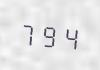four: (59, 20, 78, 52)
nine: (39, 19, 58, 50)
seven: (18, 17, 37, 48)
